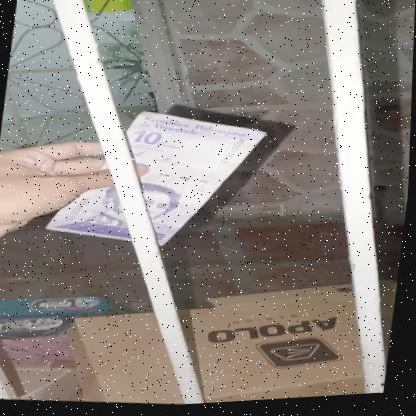ten-front-vef: (44, 99, 272, 261)
